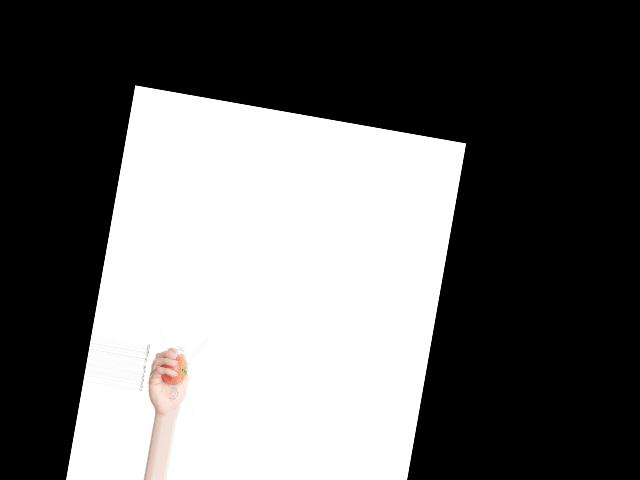tomato: (158, 351, 189, 385)
